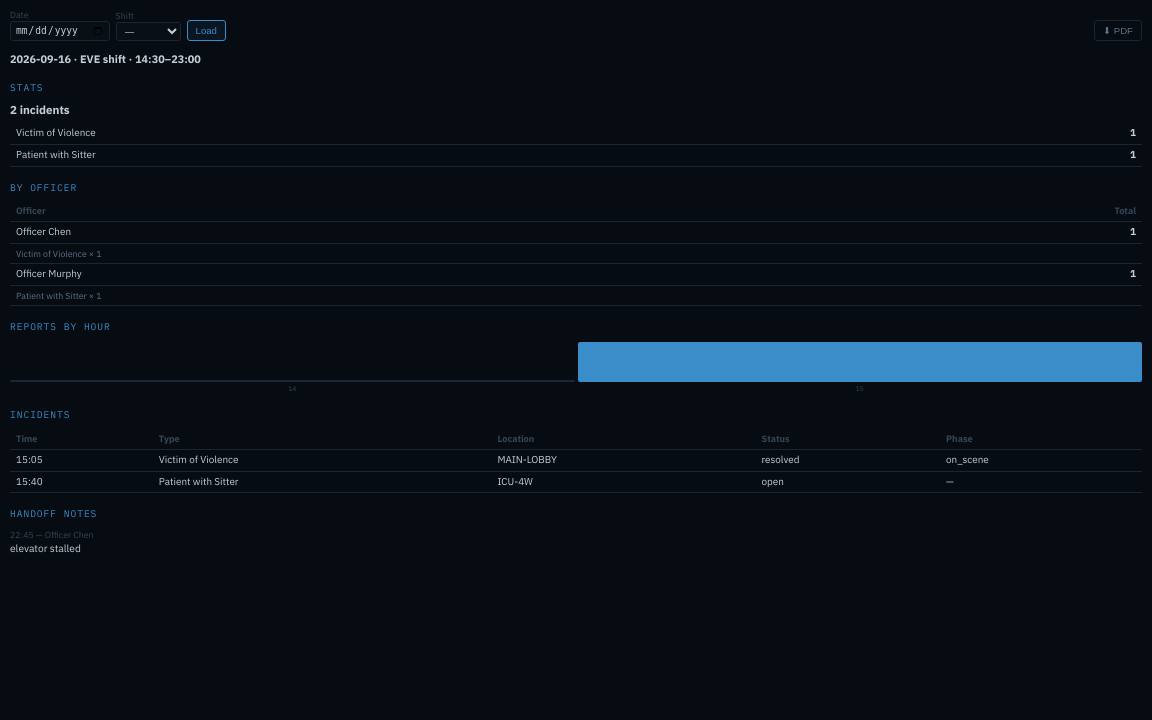
ShiftReportView › expands incident room and immutable floorplan details even when description is empty
Click the text "ICU-4W".
click(576, 482)  # box [10,471,1142,493]
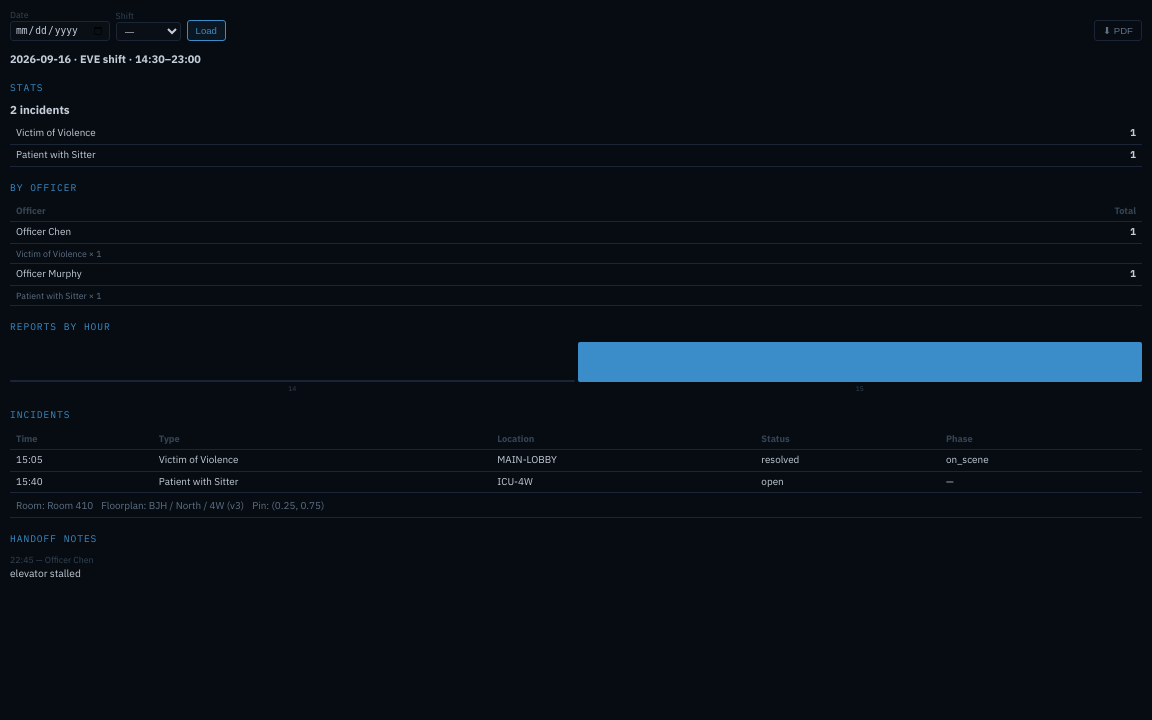
Result: the text "Room: Room 410" is shown at [16,499,93,512]
Result: the text "Floorplan: BJH / North / 4W (v3)" is shown at [101,499,244,512]
